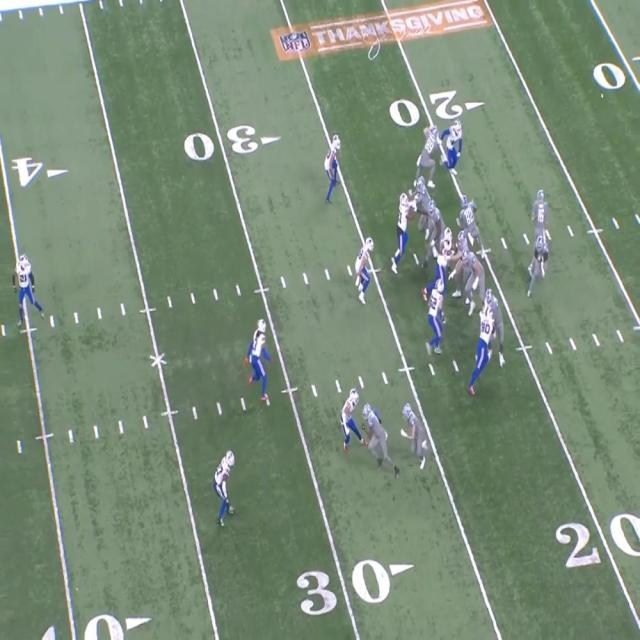center: (442, 233, 458, 274)
db: (16, 249, 38, 328), (216, 449, 236, 524), (251, 314, 268, 398), (341, 385, 360, 451), (326, 132, 342, 201)
lb: (356, 235, 376, 302), (428, 275, 443, 356)
qb: (533, 190, 549, 236)
skill: (366, 400, 392, 462), (405, 402, 425, 469), (462, 194, 481, 250), (421, 125, 438, 177), (534, 236, 546, 299)
